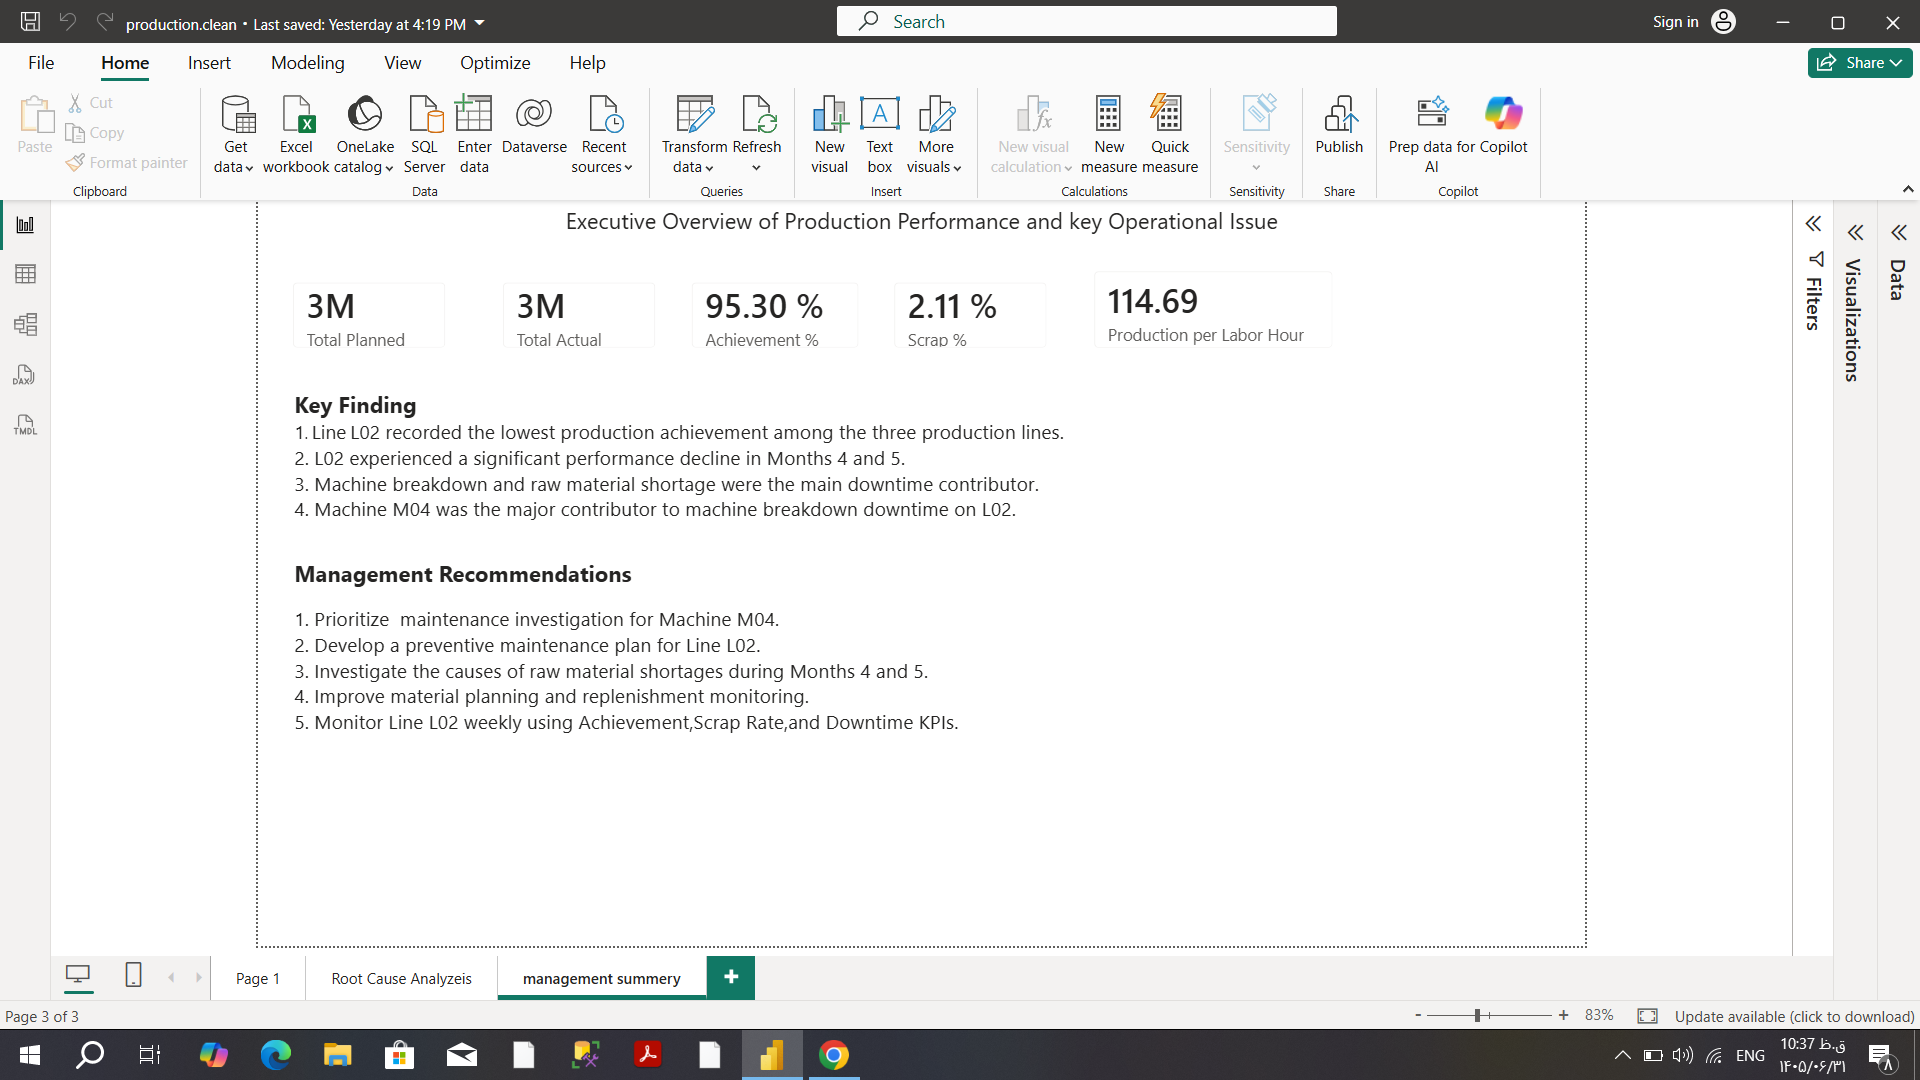

What the dashboard file says about the page in this screenshot:
{"tool":"powerbi","page":{"name":"management summery","canvas":[1280,720],"ordinal":2},"visuals":[{"type":"textbox","box":[282.9,0,714.4,51.4],"z":0},{"type":"cardVisual","fields":{"Data":["BOM.Total Planned"]},"box":[17.1,62.9,181.5,97.2],"z":1000},{"type":"cardVisual","fields":{"Data":["BOM.Total Actual"]},"box":[220,62.9,181.5,97.2],"z":2000},{"type":"cardVisual","fields":{"Data":["Production.Achievement %"]},"box":[401.5,62.9,195.8,97.2],"z":3000},{"type":"cardVisual","fields":{"Data":["Production.Scrap %"]},"box":[597.3,62.9,181.5,97.2],"z":4000},{"type":"cardVisual","fields":{"Data":["Production.Production per Labor Hour"]},"box":[790.2,51.4,264.3,108.6],"z":5000},{"type":"textbox","box":[30.2,177,760.2,138.6],"z":6000},{"type":"textbox","box":[30.2,340.3,739.6,190.7],"z":7000}]}

Visuals, with their boxes on the page's 1280x720 design canvas (x1, y1, x2, y2). These are canvas units, not pixel positions in the 1920x1080 screenshot, which may show the page scaled, cropped or inside an application window:
textbox: (283,0,997,51)
cardVisual - BOM.Total Planned: (17,63,199,160)
cardVisual - BOM.Total Actual: (220,63,402,160)
cardVisual - Production.Achievement %: (402,63,597,160)
cardVisual - Production.Scrap %: (597,63,779,160)
cardVisual - Production.Production per Labor Hour: (790,51,1054,160)
textbox: (30,177,790,316)
textbox: (30,340,770,531)
